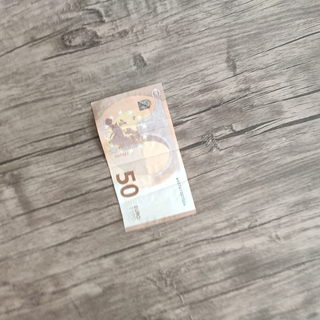50EUROBack: (88, 80, 198, 233)
